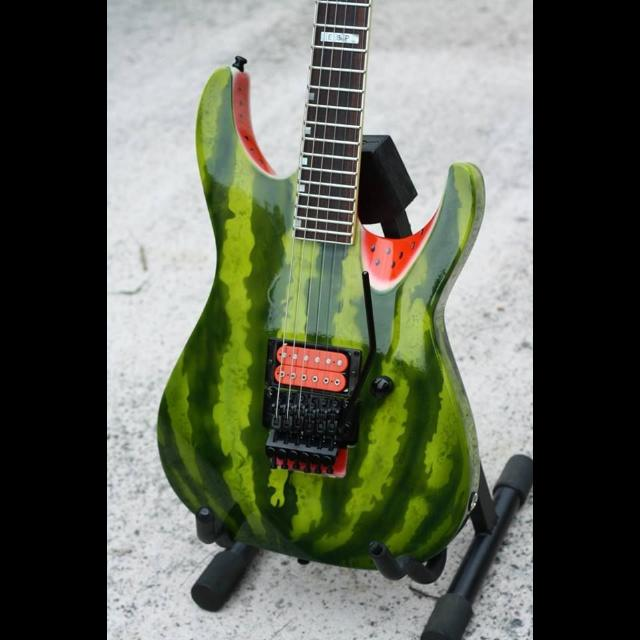Electric-Guitar: (168, 4, 522, 600)
